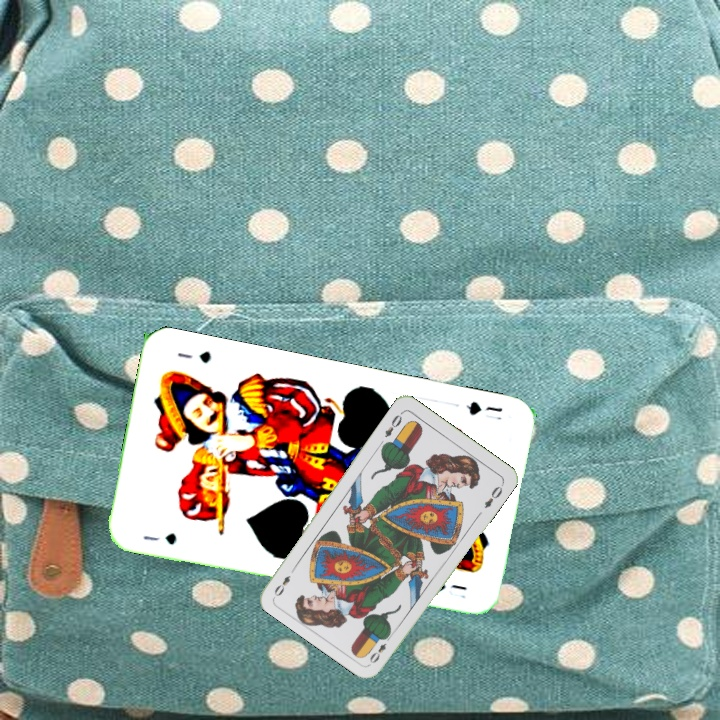EO: (365, 630, 394, 666), (381, 408, 405, 440)
GU: (462, 397, 505, 423), (139, 528, 179, 548)
